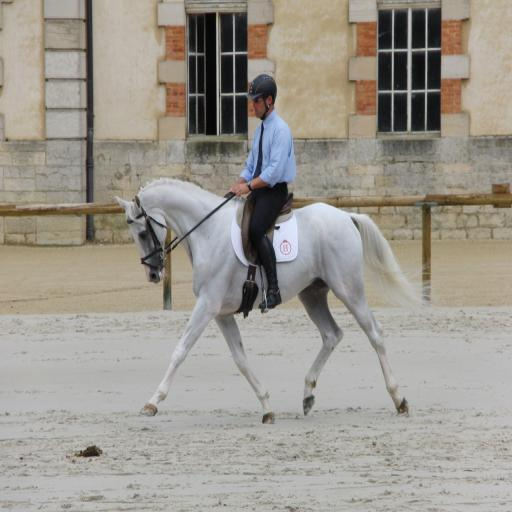horse: (112, 176, 438, 425)
